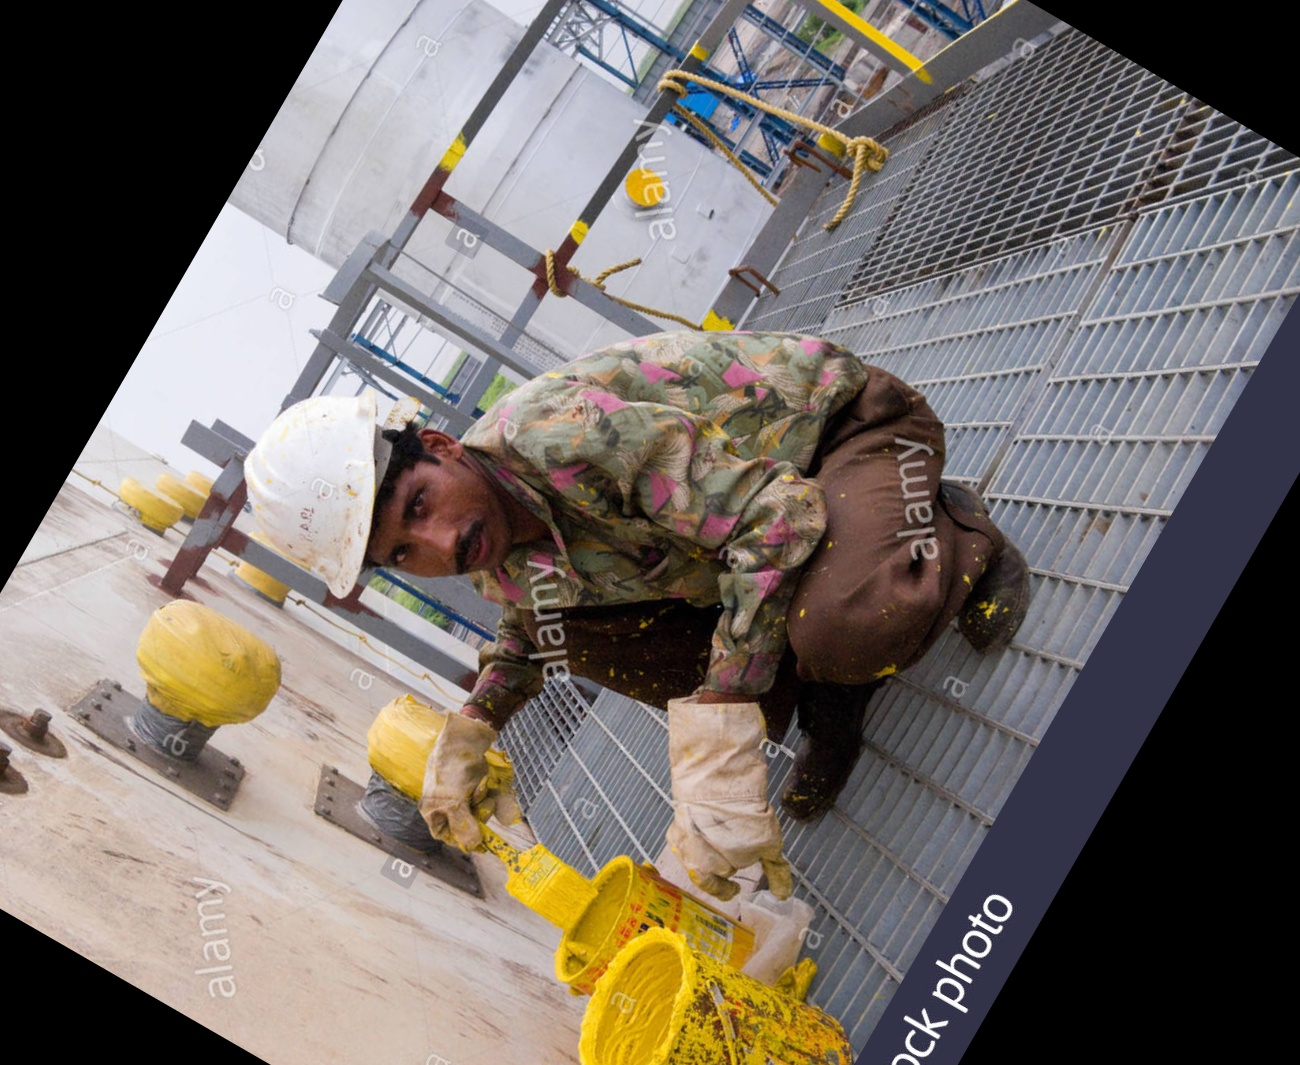NoJacket: (263, 405, 829, 638)
